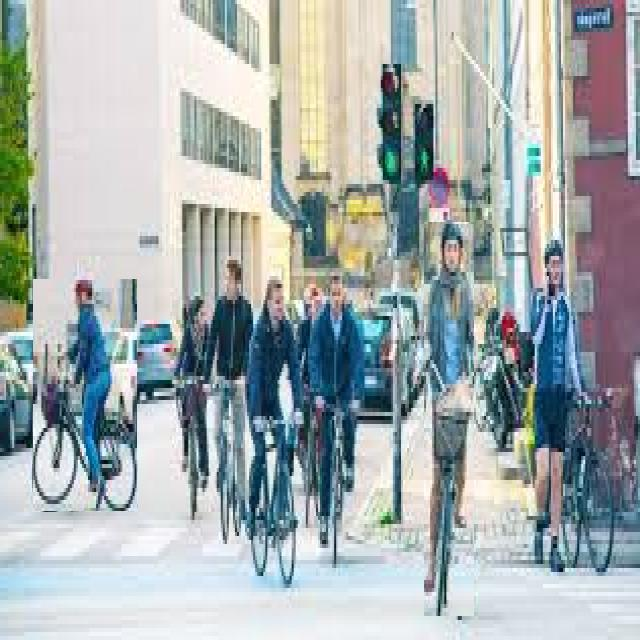bicycle: (33, 279, 136, 511), (424, 222, 474, 616)
